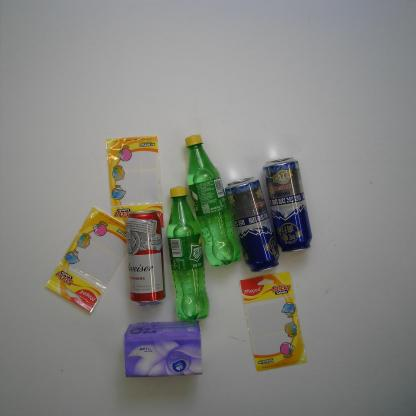Alcohol: (225, 176, 280, 273), (263, 157, 312, 253), (124, 210, 166, 306)
Drink: (185, 134, 241, 268), (166, 186, 210, 322)
Stationery: (44, 205, 134, 314), (239, 270, 308, 373), (104, 135, 166, 229)
Tissue: (123, 321, 203, 378)
